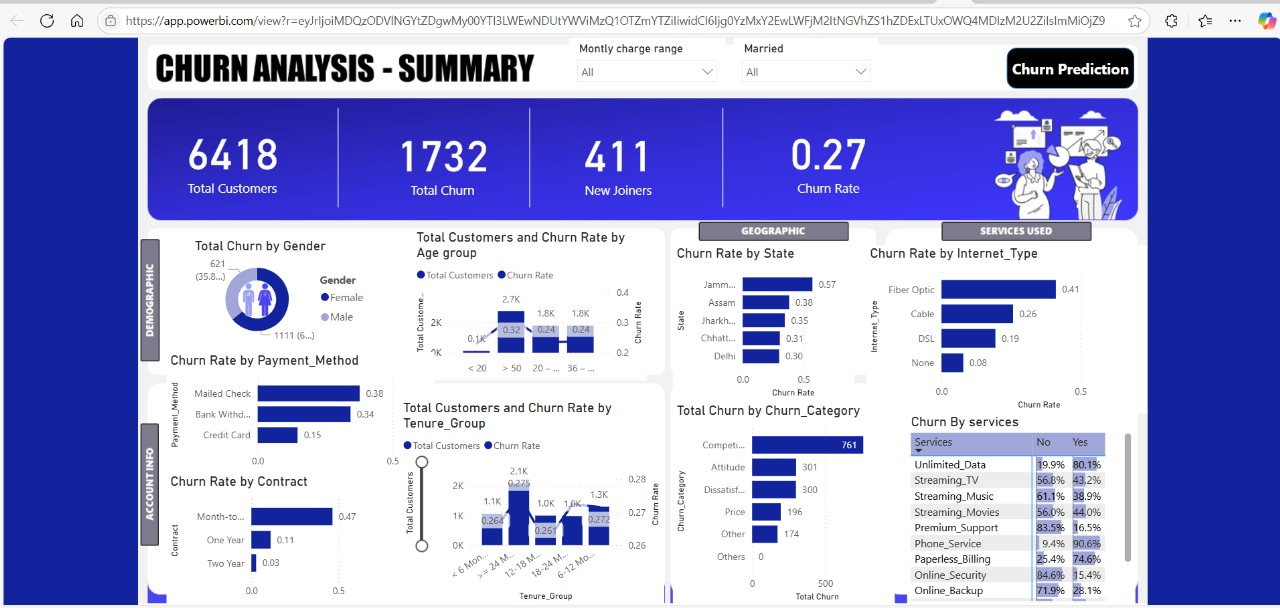

Layout of this report page (visuals, bound fields, positions):
{"tool":"powerbi","page":{"name":"Summary","canvas":[1280,720],"ordinal":0},"visuals":[{"type":"card","fields":{"Values":["tbl_measures.Total Customers"]},"box":[16.5,100.2,205.8,105.7],"z":0},{"type":"card","fields":{"Values":["tbl_measures.Total Churn"]},"box":[301.9,101.5,170.2,105.7],"z":1000},{"type":"card","fields":{"Values":["tbl_measures.New Joiners"]},"box":[529.7,101.5,159.2,105.7],"z":2000},{"type":"card","fields":{"Values":["tbl_measures.Churn Rate"]},"box":[793.1,100.2,166,105.7],"z":3000},{"type":"donutChart","fields":{"Category":["prod_Churn.Gender"],"Y":["tbl_measures.Total Churn"]},"box":[67.2,253.9,234.6,138.6],"z":4000},{"type":"lineStackedColumnComboChart","fields":{"Category":["mapping_AgeGrp.Age group"],"Y":["tbl_measures.Total Customers"],"Y2":["tbl_measures.Churn Rate"]},"box":[348.5,242.9,297.8,192.1],"z":5000},{"type":"clusteredBarChart","fields":{"Category":["prod_Churn.Payment_Method"],"Y":["tbl_measures.Churn Rate"]},"box":[35.7,399.3,340.3,156.4],"z":6000},{"type":"clusteredBarChart","fields":{"Category":["prod_Churn.Contract"],"Y":["tbl_measures.Churn Rate"]},"box":[35.7,553,308.7,167.4],"z":7000},{"type":"lineStackedColumnComboChart","fields":{"Category":["mapping_TenureGrp.Tenure_Group"],"Y":["tbl_measures.Total Customers"],"Y2":["tbl_measures.Churn Rate"]},"box":[330.7,459.7,336.2,260.7],"z":8000},{"type":"clusteredBarChart","fields":{"Category":["prod_Churn.State"],"Y":["tbl_measures.Churn Rate"]},"box":[677.9,263.5,230.5,199],"z":9000},{"type":"clusteredBarChart","fields":{"Category":["prod_Churn.Churn_Category"],"Y":["tbl_measures.Total Churn"]},"box":[677.9,462.4,281.3,258],"z":10000},{"type":"clusteredBarChart","fields":{"Category":["prod_Churn.Internet_Type"],"Y":["tbl_measures.Churn Rate"]},"box":[923.5,263.5,356.8,214.1],"z":11000},{"type":"slicer","fields":{"Values":["prod_Churn.Montly  charge status"]},"box":[546.6,0,198.1,64.8],"z":12000},{"type":"slicer","fields":{"Values":["prod_Churn.Married"]},"box":[755.7,0,183.4,64.8],"z":13000},{"type":"pivotTable","title":"Churn By services","fields":{"Rows":["prod_services.Services"],"Columns":["prod_services.Status"],"Values":["Sum(prod_services.churn_status)"]},"box":[975.6,477.5,289.5,242.9],"z":14000},{"type":"image","box":[118,300.5,67.2,63.1],"z":15000},{"type":"shape","box":[1101.9,12.3,161.9,52.1],"z":15001}]}

Visuals, with their boxes on the page's 1280x720 design canvas (x1, y1, x2, y2). These are canvas units, not pixel positions in the 1280x608 screenshot, which may show the page scaled, cropped or inside an application window:
card - tbl_measures.Total Customers: [16, 100, 222, 206]
card - tbl_measures.Total Churn: [302, 102, 472, 207]
card - tbl_measures.New Joiners: [530, 102, 689, 207]
card - tbl_measures.Churn Rate: [793, 100, 959, 206]
donutChart - prod_Churn.Gender x tbl_measures.Total Churn: [67, 254, 302, 392]
lineStackedColumnComboChart - mapping_AgeGrp.Age group x tbl_measures.Total Customers: [348, 243, 646, 435]
clusteredBarChart - prod_Churn.Payment_Method x tbl_measures.Churn Rate: [36, 399, 376, 556]
clusteredBarChart - prod_Churn.Contract x tbl_measures.Churn Rate: [36, 553, 344, 720]
lineStackedColumnComboChart - mapping_TenureGrp.Tenure_Group x tbl_measures.Total Customers: [331, 460, 667, 720]
clusteredBarChart - prod_Churn.State x tbl_measures.Churn Rate: [678, 264, 908, 462]
clusteredBarChart - prod_Churn.Churn_Category x tbl_measures.Total Churn: [678, 462, 959, 720]
clusteredBarChart - prod_Churn.Internet_Type x tbl_measures.Churn Rate: [924, 264, 1280, 478]
slicer - prod_Churn.Montly  charge status: [547, 0, 745, 65]
slicer - prod_Churn.Married: [756, 0, 939, 65]
"Churn By services" pivotTable: [976, 478, 1265, 720]
image: [118, 300, 185, 364]
shape: [1102, 12, 1264, 64]
